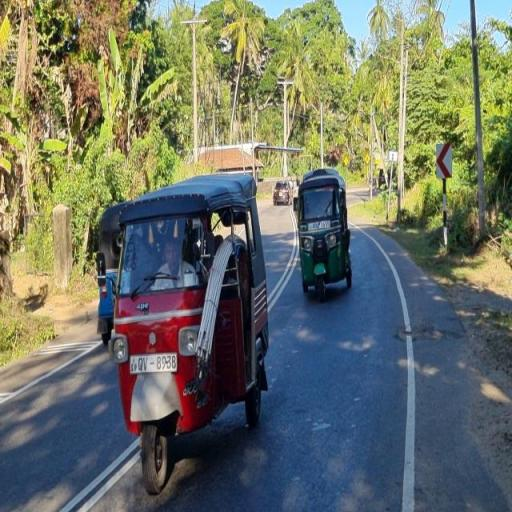double_white_line: (54, 437, 140, 511)
